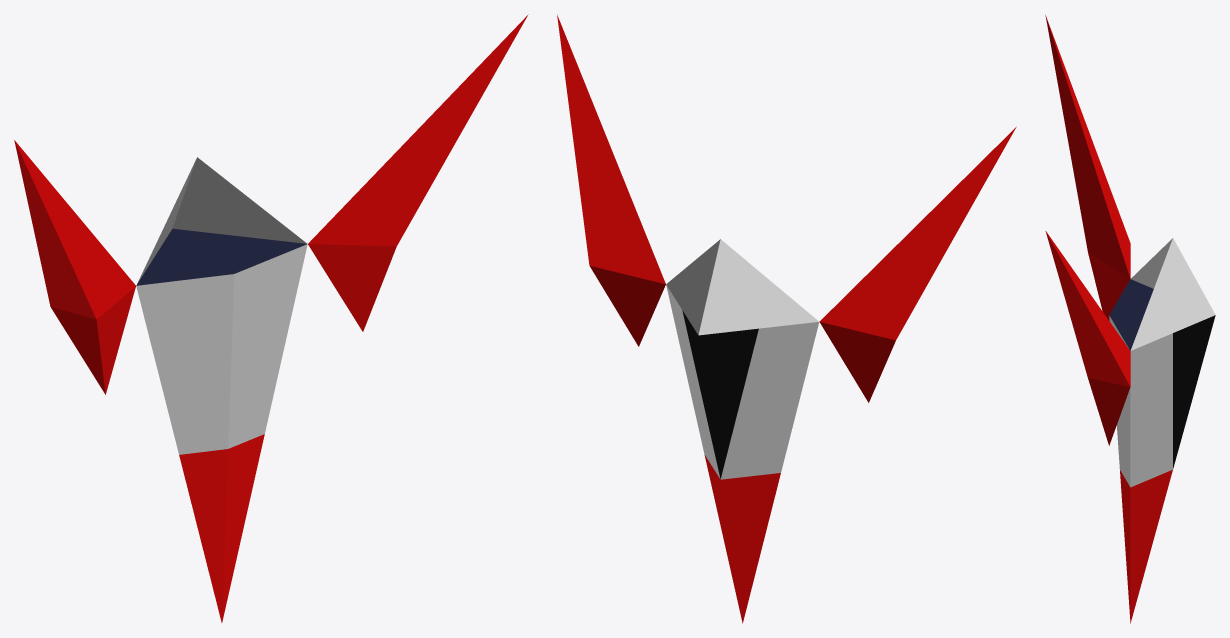
Rendered from playerShip.fbx.
3 renders of one model, left to right at view 1: azimuth 30°, elevation 25°; view 2: azimuth 150°, elevation 25°; view 3: azimuth 270°, elevation 25°, orthographic. The views are drawn at different scales.
Visible parts, largest first — view 1: arwing, arwingBack; view 2: arwing; view 3: arwing, arwingBack.
Part boxes in pixels (<box>): arwing: <box>14,14,528,622</box>; arwingBack: <box>136,228,306,285</box>; arwing: <box>557,14,1016,623</box>; arwing: <box>1045,15,1215,623</box>; arwingBack: <box>1109,279,1153,350</box>.
Bounding box in the file's own units: 225 × 244 × 75.
Materials: 2 (2 with a texture image).
